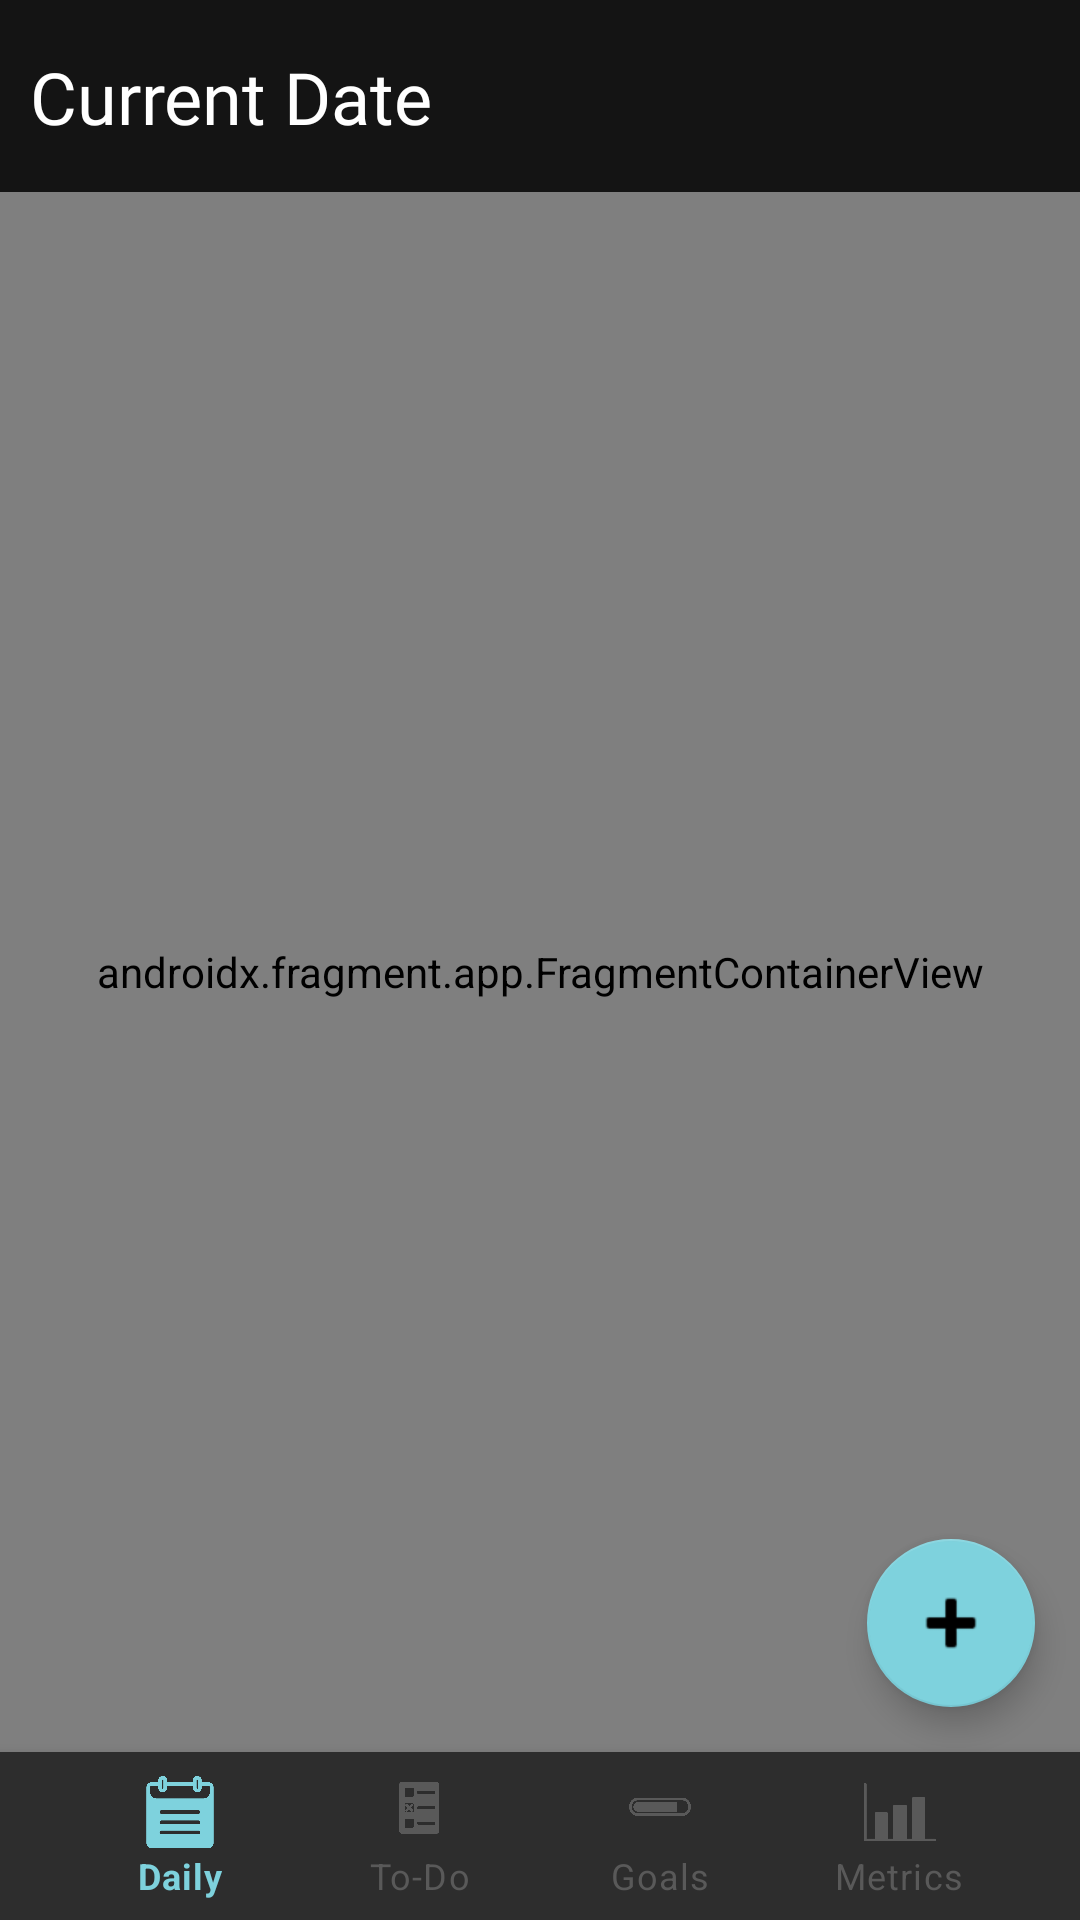

Icons on this 1080*1920 Android screen, each with the point to tap as (x,y):
add: (951,1623)
